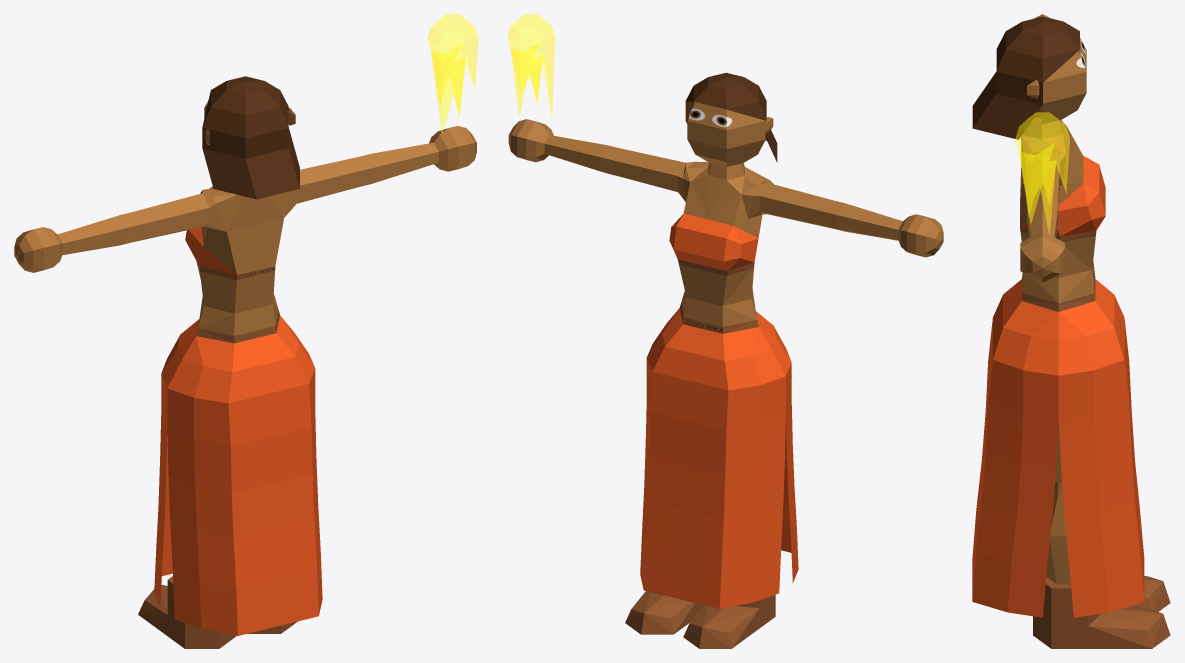
Rendered from Fire Mage.glb.
The picture shows the model from 3 angles, left to right: view 1: azimuth 30°, elevation 25°; view 2: azimuth 150°, elevation 25°; view 3: azimuth 270°, elevation 25°; orthographic projection. The views are drawn at different scales.
Visible parts, largest first — view 1: Skirt, Body, Hair, Fireball; view 2: Skirt, Body, Fireball, Hair; view 3: Skirt, Body, Hair, Fireball.
Part boxes in pixels (x1=…): Skirt: x1=154, y1=316, x2=322, y2=635; Body: x1=14, y1=100, x2=476, y2=648; Hair: x1=202, y1=76, x2=299, y2=199; Fireball: x1=427, y1=14, x2=478, y2=133; Skirt: x1=640, y1=308, x2=798, y2=608; Body: x1=508, y1=101, x2=943, y2=648; Fireball: x1=507, y1=14, x2=554, y2=117; Hair: x1=685, y1=72, x2=777, y2=162; Skirt: x1=972, y1=279, x2=1144, y2=617; Body: x1=1020, y1=14, x2=1170, y2=648; Hair: x1=972, y1=16, x2=1079, y2=139; Fireball: x1=1015, y1=112, x2=1069, y2=234.
Size of the model in its own units: 1.56 by 1.86 by 0.5445.
Materials: 8 (2 with a texture image).
